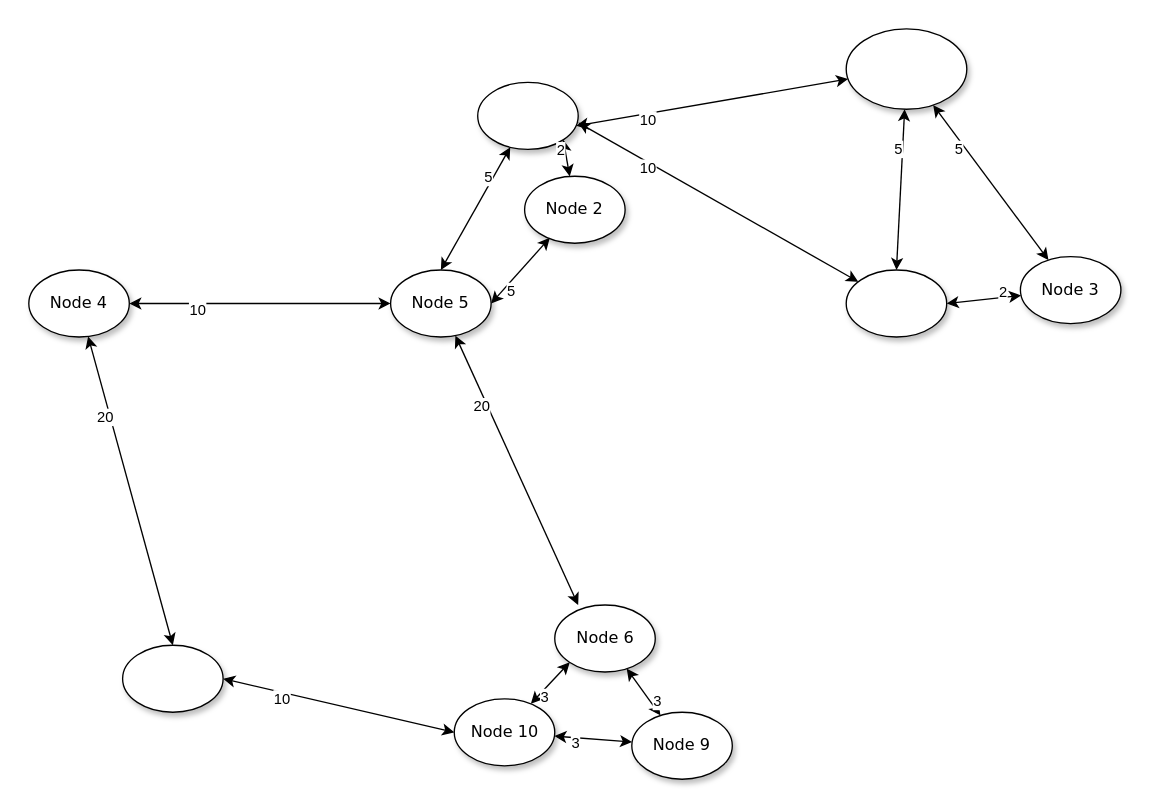
Image size: 1152x812. Some labels were removed from this diagram. The centre of each missing label's shape, as x and y in pixels:
"entrance" belongs at point 907,70.
"Node 1" belongs at point 528,117.
"Node 7" belongs at point 897,304.
"Node 8" belongs at point 173,680.
